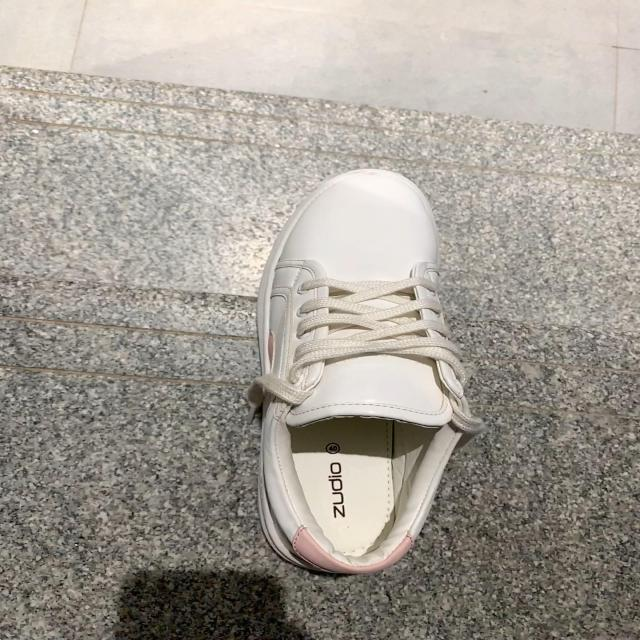shoe: (248, 170, 482, 576)
